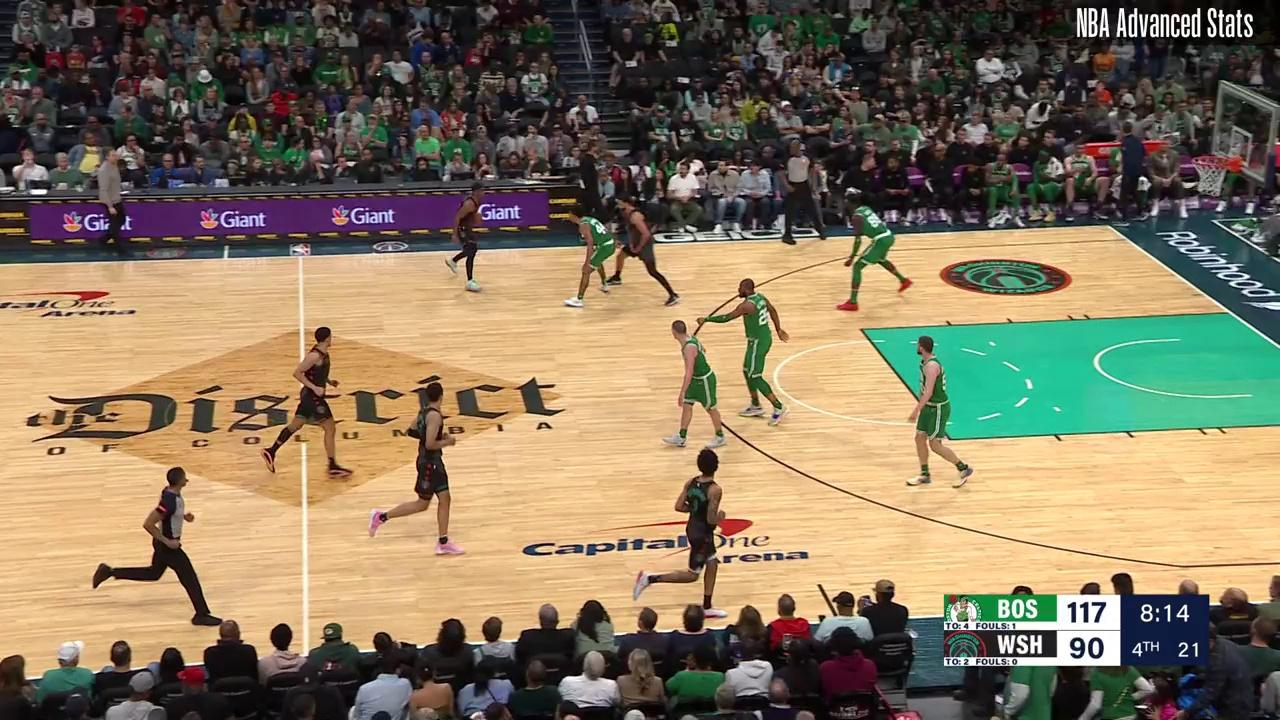3_sx: (1118, 232, 1134, 247)
b_sx: (1097, 218, 1115, 233)
free_adx: (941, 431, 959, 447)
free_asx: (852, 321, 869, 337)
free_bsx: (1221, 307, 1238, 321)
half_sx: (293, 250, 308, 265)
mid_dx: (813, 578, 826, 590)
referee: (89, 466, 224, 628), (778, 137, 830, 240)
team: (701, 277, 792, 427), (909, 337, 974, 487), (664, 318, 729, 449), (838, 193, 911, 308), (564, 207, 614, 306)
team1: (367, 380, 468, 557), (634, 449, 731, 617), (262, 324, 356, 478), (447, 184, 485, 293)
timer: (1136, 596, 1197, 630)
